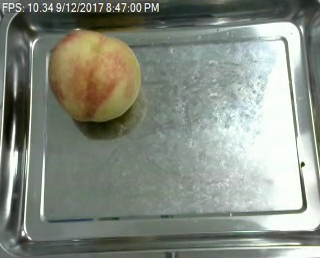Peach: (48, 29, 140, 123)
